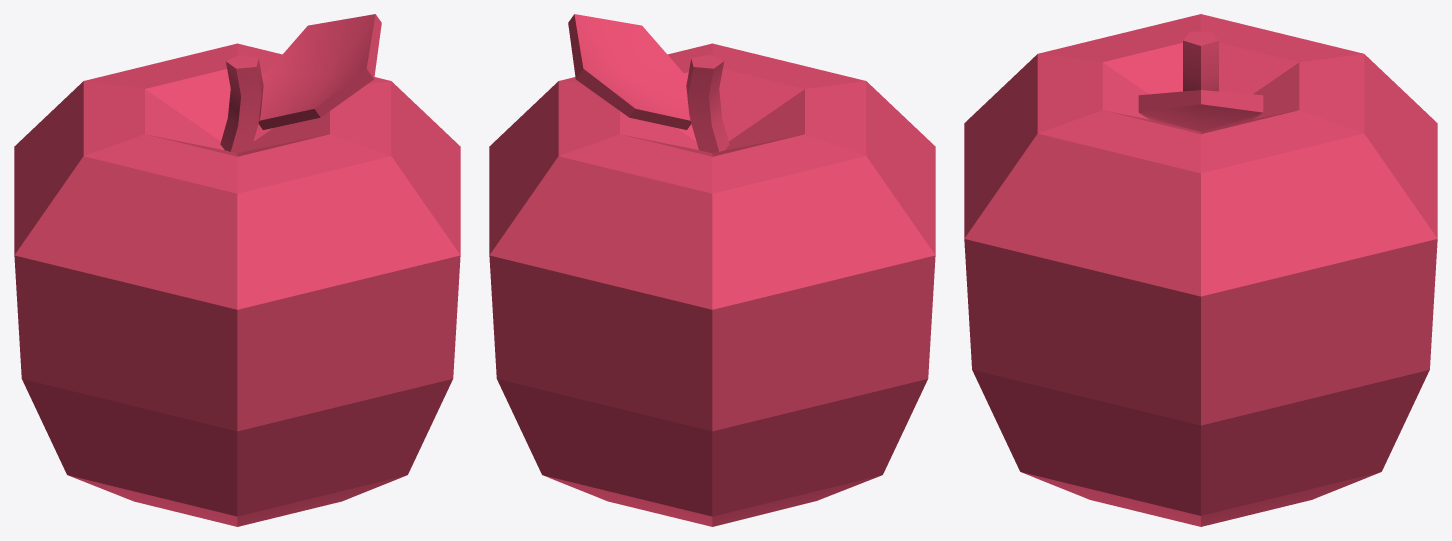
File: apple01.fbx
3 renders of one model, left to right at view 1: azimuth 30°, elevation 25°; view 2: azimuth 150°, elevation 25°; view 3: azimuth 270°, elevation 25°, orthographic. The views are drawn at different scales.
Parts seen in each view (by area): view 1: pSphere1, pCylinder3, pCylinder2; view 2: pSphere1, pCylinder3, pCylinder2; view 3: pSphere1, pCylinder3, pCylinder2.
Part boxes in pixels (bbox=[...]): pSphere1: bbox=[14, 43, 460, 526]; pCylinder3: bbox=[258, 14, 381, 129]; pCylinder2: bbox=[220, 54, 263, 153]; pSphere1: bbox=[489, 43, 935, 526]; pCylinder3: bbox=[568, 14, 691, 129]; pCylinder2: bbox=[686, 54, 729, 153]; pSphere1: bbox=[964, 14, 1437, 526]; pCylinder3: bbox=[1138, 90, 1263, 131]; pCylinder2: bbox=[1183, 31, 1218, 91].
Bounding box in the file's own units: 103 × 96.67 × 88.97.
